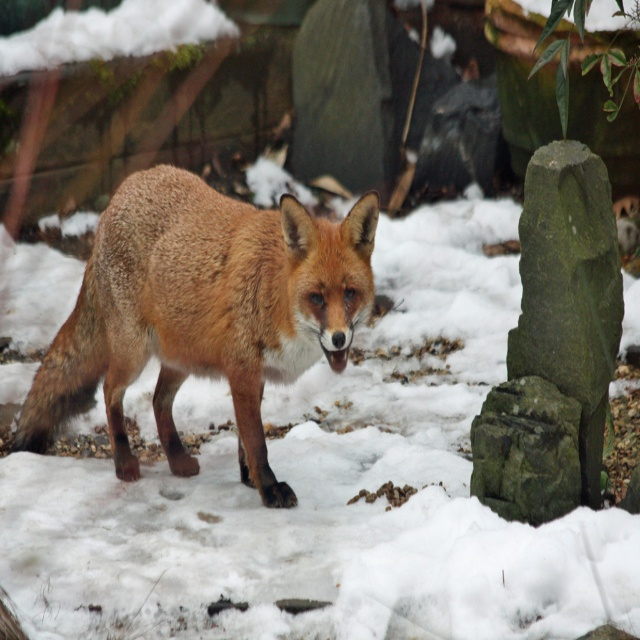Fox: (0, 160, 379, 507)
